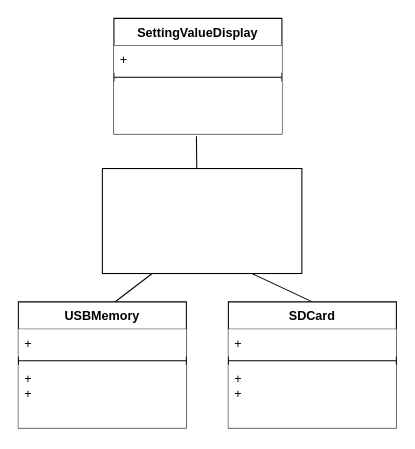
Image size: 415x449. Some labels were removed from this diagram. The centre of each missing label's shape, as x and y in pixels:
+ + load(): + save():: the point at 197,107
ISettingValue + +: the point at 201,220
